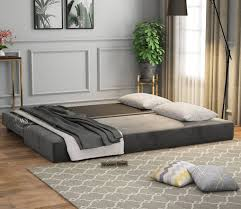bed-matress: (1, 98, 235, 166)
